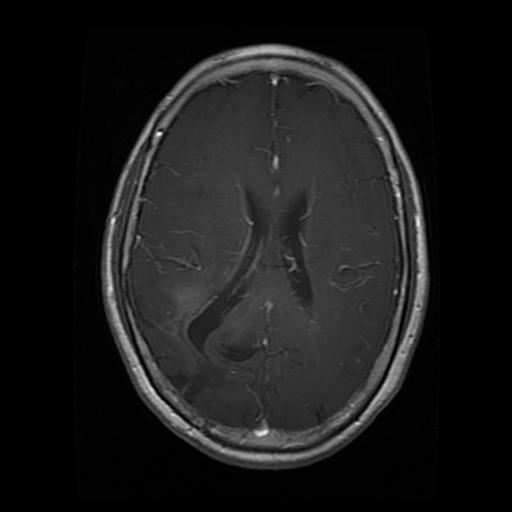Gliomia_tumour: (168, 274, 246, 358)
